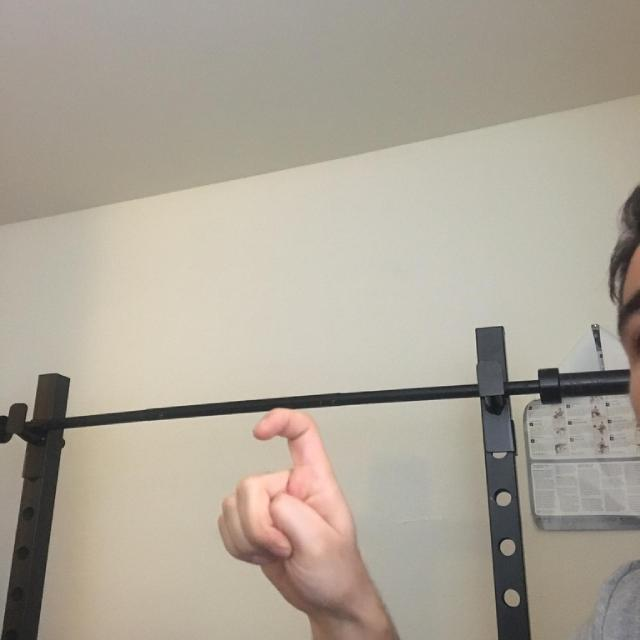X: (184, 345, 398, 640)
